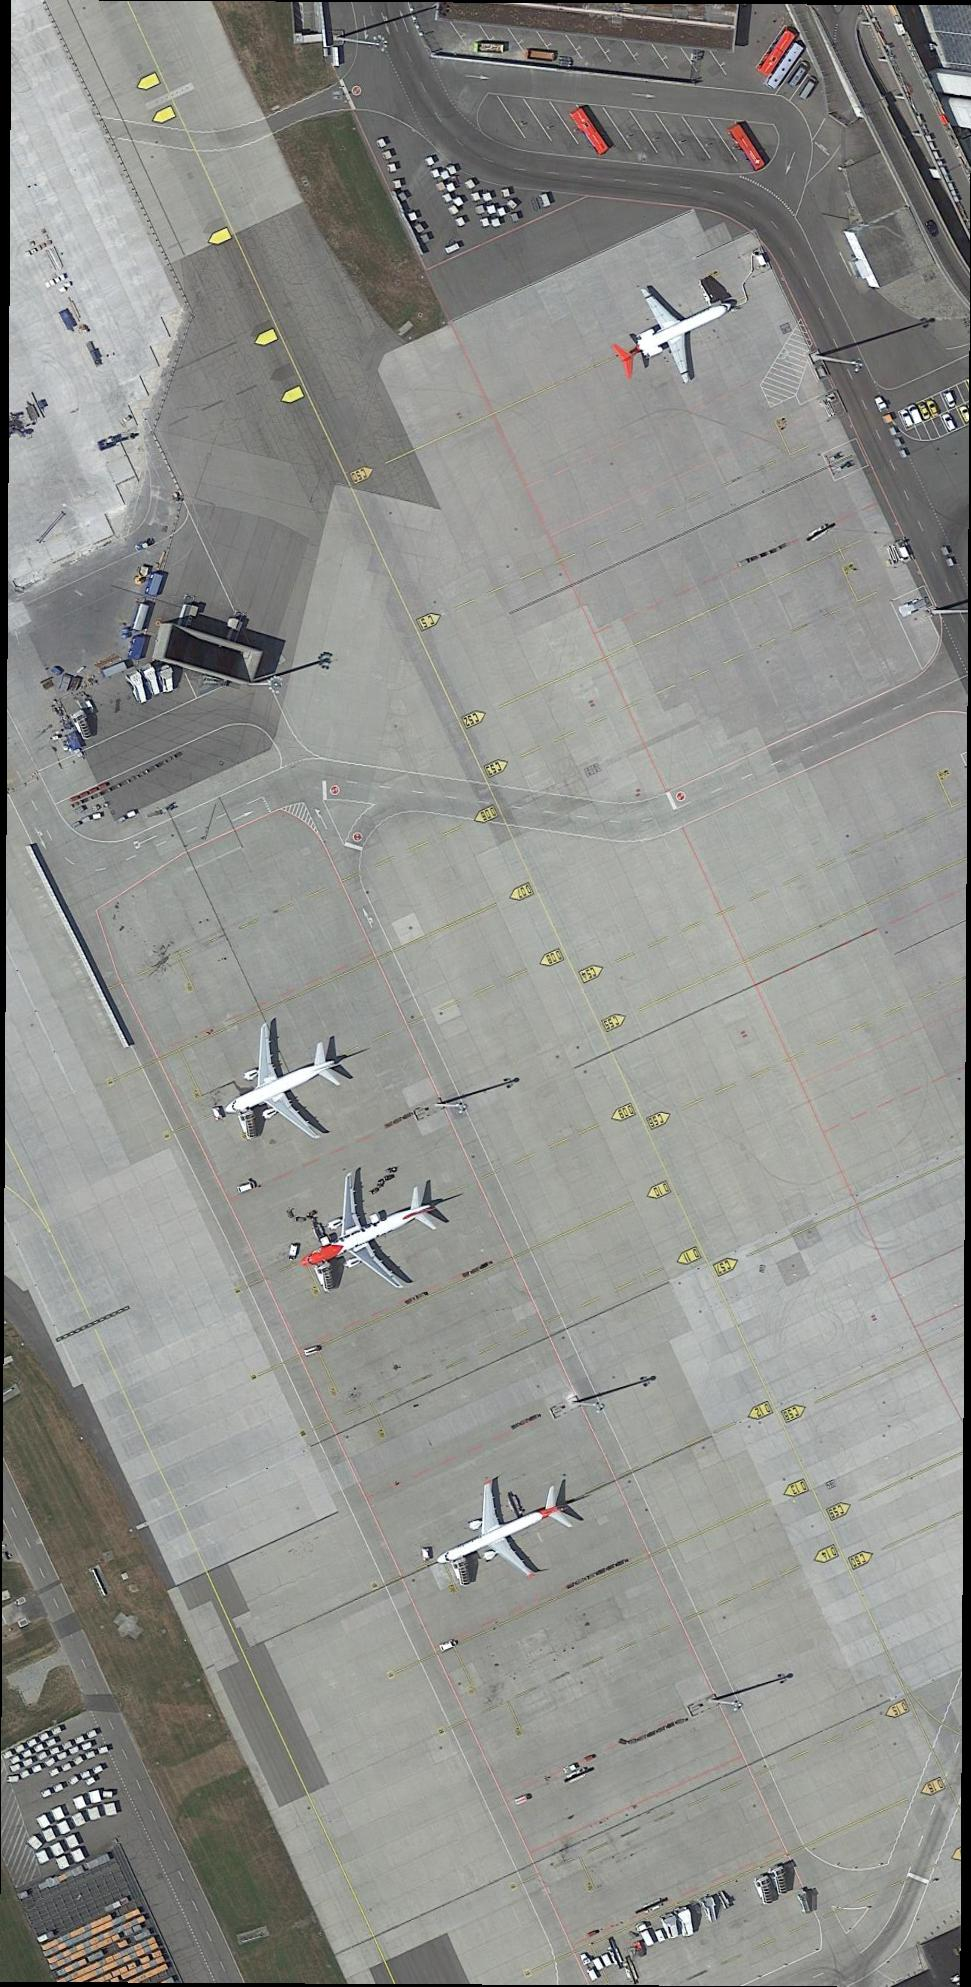plane: (390, 1417, 624, 1651), (261, 1140, 478, 1345), (184, 994, 375, 1181), (582, 245, 769, 416)
